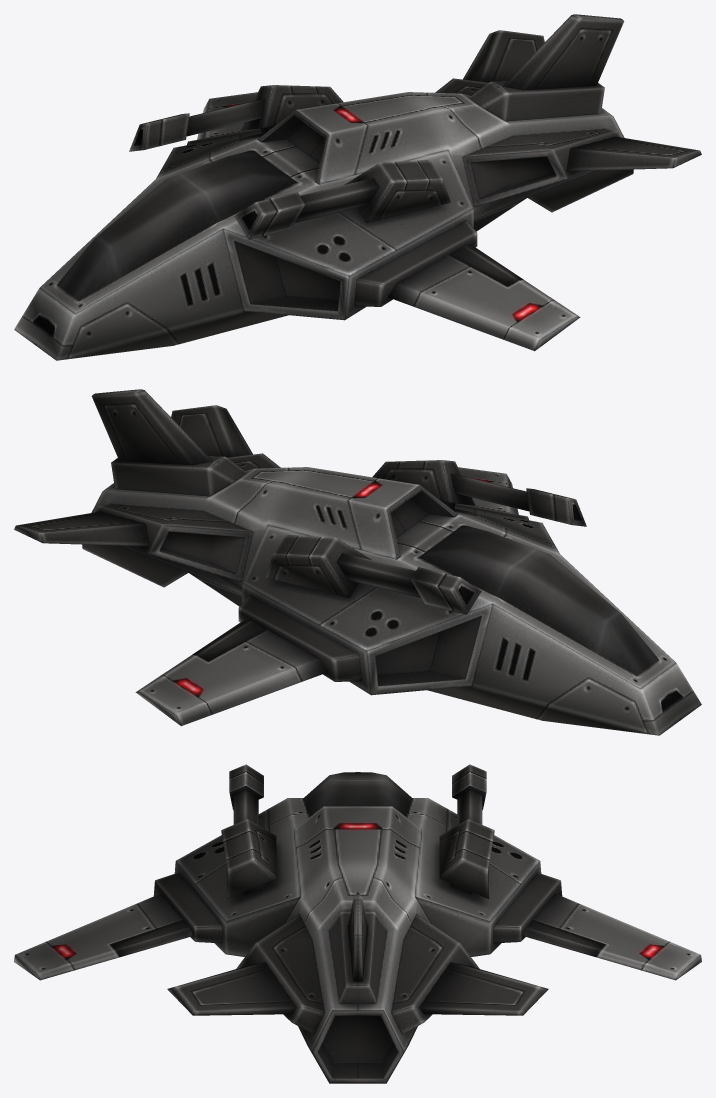
The picture shows the model from 3 angles, top to bottom: view 1: azimuth 30°, elevation 25°; view 2: azimuth 150°, elevation 25°; view 3: azimuth 270°, elevation 25°; orthographic projection. The views are drawn at different scales.
Visible parts, largest first — view 1: small_space_ship_4_003; view 2: small_space_ship_4_003; view 3: small_space_ship_4_003.
Boxes of the visible parts, x1=… form: small_space_ship_4_003: x1=14, y1=14, x2=701, y2=360; small_space_ship_4_003: x1=14, y1=389, x2=701, y2=735; small_space_ship_4_003: x1=14, y1=764, x2=701, y2=1083.
Size of the model in its own units: 53.1 by 18.09 by 51.82.
Materials: 1 (1 with a texture image).
